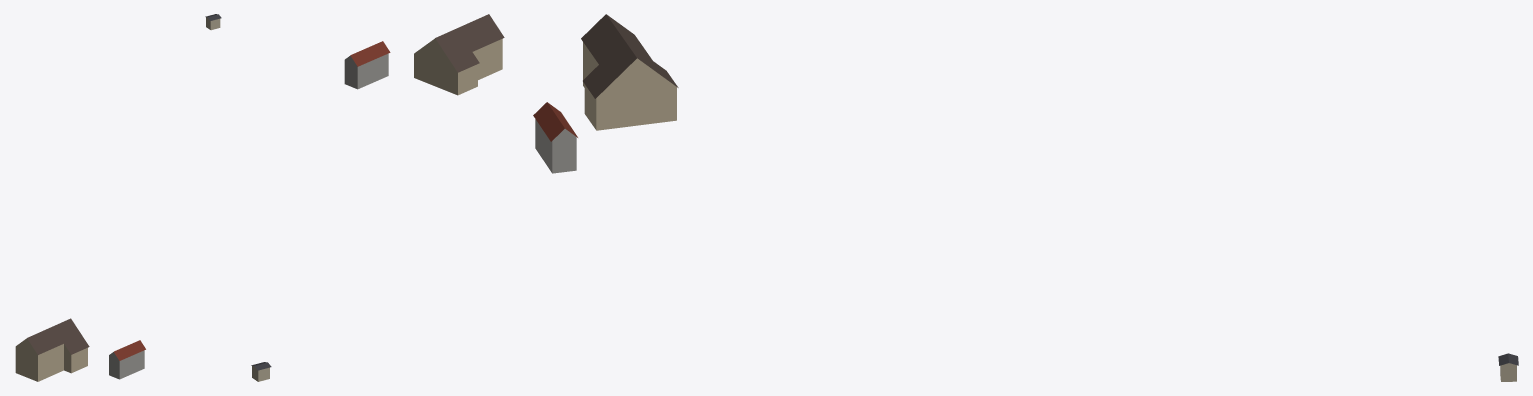
3 views of the same model, side by side, from view 1: azimuth 30°, elevation 25°; view 2: azimuth 210°, elevation 25°; view 3: azimuth 270°, elevation 25° (orthographic). The views are drawn at different scales.
Visible parts, largest first — view 1: buildings; view 2: buildings; view 3: buildings.
Part boxes in pixels (bbox=[...]): buildings: bbox=[15, 14, 221, 381]; buildings: bbox=[251, 14, 504, 381]; buildings: bbox=[533, 14, 1518, 381].
Size of the model in its own units: 148 by 18.93 by 160.
